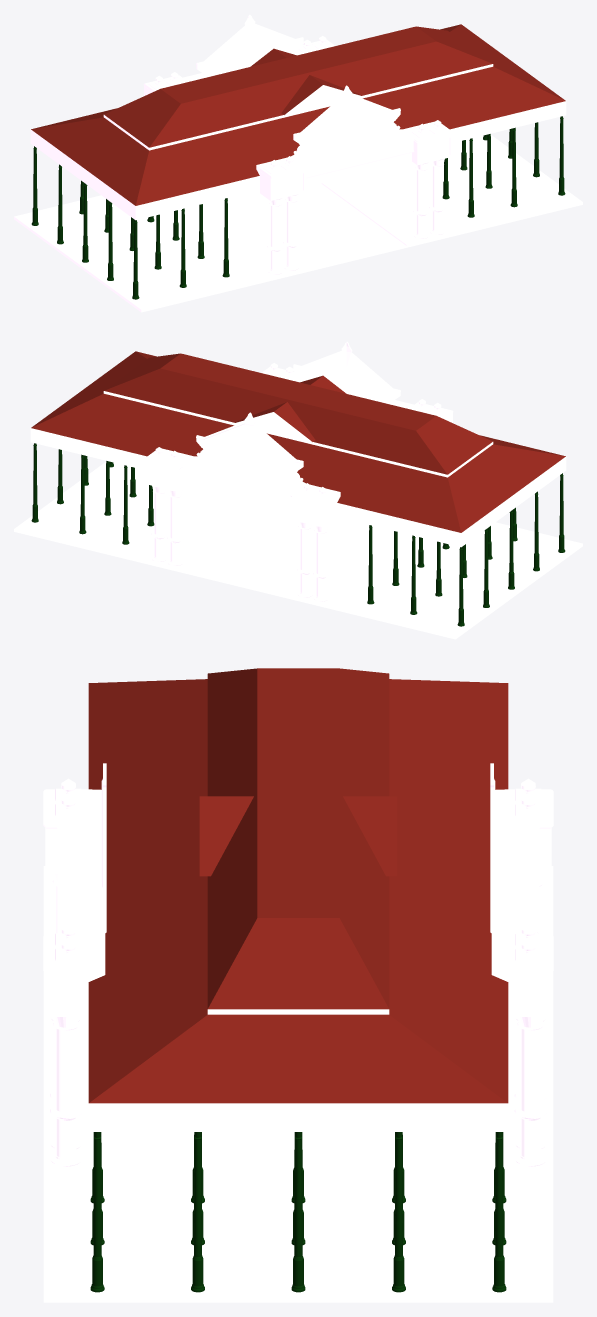
Rendered from Keraton.fbx.
3 views of the same model, one above another, from view 1: azimuth 30°, elevation 25°; view 2: azimuth 150°, elevation 25°; view 3: azimuth 270°, elevation 25° (orthographic). The views are drawn at different scales.
Visible parts, largest first — view 1: Cube; view 2: Cube; view 3: Cube.
Part boxes in pixels (box(x1,y1,x2,y2)): Cube: box(14, 14, 582, 312); Cube: box(14, 341, 582, 639); Cube: box(43, 668, 553, 1302).
Size of the model in its own units: 1523 by 533 by 762.
